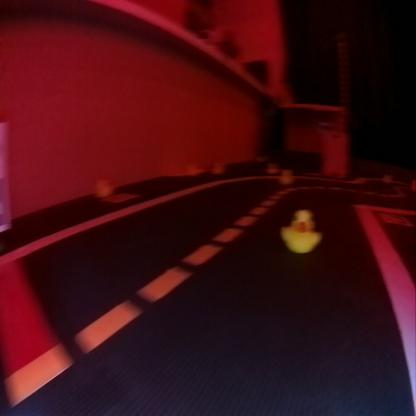Duckie: (279, 211, 322, 253), (96, 178, 112, 196), (279, 169, 292, 185), (212, 162, 224, 174)
